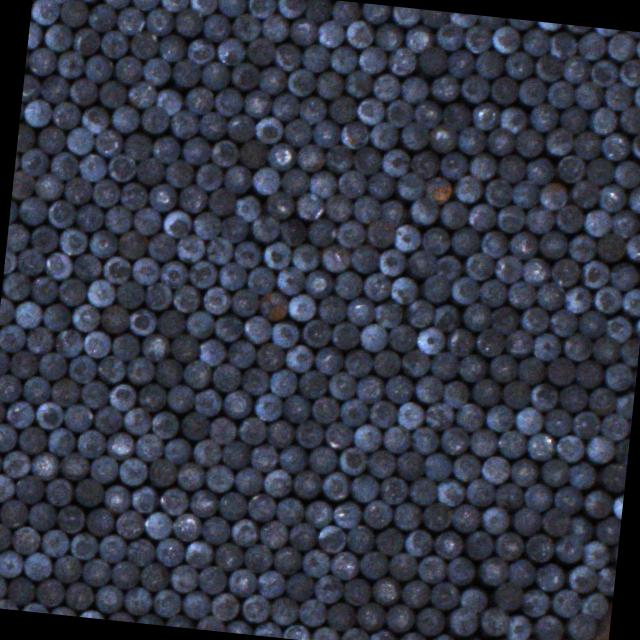tool: (492, 531, 524, 562), (478, 555, 510, 586), (447, 604, 479, 635), (549, 257, 580, 288), (449, 502, 480, 533), (416, 44, 447, 75), (550, 586, 581, 617), (533, 561, 564, 592), (386, 44, 416, 76), (138, 560, 168, 592), (237, 136, 267, 168), (491, 580, 523, 610), (324, 600, 356, 630), (480, 604, 510, 636), (552, 484, 584, 514), (528, 101, 558, 132), (360, 498, 391, 528), (544, 356, 574, 387), (212, 85, 242, 116), (222, 387, 252, 418), (256, 517, 286, 548), (168, 562, 198, 593), (174, 6, 204, 37), (460, 73, 490, 104), (386, 549, 416, 580), (383, 601, 413, 632), (428, 579, 458, 610), (316, 523, 346, 554), (462, 529, 492, 560), (416, 552, 447, 582), (508, 228, 538, 259), (475, 325, 505, 356), (140, 104, 171, 134), (115, 229, 145, 260), (414, 604, 444, 635), (407, 248, 438, 278), (406, 296, 436, 327), (524, 531, 554, 562), (566, 562, 596, 593), (364, 216, 394, 247), (493, 481, 524, 511), (421, 501, 452, 531), (147, 458, 177, 488), (227, 566, 257, 596), (337, 168, 367, 198), (109, 560, 139, 590), (242, 312, 272, 342), (286, 519, 316, 549), (52, 328, 82, 358), (76, 428, 106, 458), (260, 468, 290, 498), (212, 542, 242, 572), (42, 475, 72, 505), (481, 455, 511, 485), (234, 466, 264, 496), (18, 196, 48, 226), (133, 431, 163, 461), (496, 428, 526, 458), (523, 480, 553, 510), (438, 426, 468, 456), (48, 150, 78, 180), (242, 543, 272, 573), (462, 251, 492, 281), (29, 451, 59, 481), (132, 206, 162, 236), (107, 152, 137, 182), (358, 321, 388, 351), (223, 112, 253, 142), (570, 410, 600, 440), (541, 406, 571, 436), (176, 184, 206, 214), (71, 301, 101, 331), (256, 64, 286, 94), (300, 317, 330, 347), (284, 342, 314, 372), (172, 511, 202, 541), (225, 337, 255, 367), (180, 410, 210, 440), (208, 590, 238, 620), (500, 380, 530, 410), (39, 73, 69, 103), (554, 202, 584, 232), (252, 390, 282, 420), (240, 592, 270, 622), (543, 125, 573, 155), (12, 474, 42, 504), (390, 222, 420, 252), (180, 359, 210, 389), (164, 158, 194, 188), (116, 456, 146, 486), (296, 368, 326, 398), (483, 400, 513, 430), (56, 502, 86, 532), (338, 396, 368, 426), (90, 177, 120, 207), (112, 54, 142, 84), (230, 12, 260, 42), (248, 442, 278, 472), (210, 362, 240, 392), (348, 243, 378, 273), (240, 88, 270, 118), (362, 271, 392, 301), (555, 434, 585, 464), (175, 232, 205, 262), (192, 209, 222, 239), (400, 347, 430, 377), (190, 436, 220, 466), (518, 305, 548, 335), (204, 463, 234, 493), (558, 382, 588, 412), (154, 536, 184, 566), (52, 553, 82, 583), (56, 277, 86, 307), (414, 372, 444, 402), (215, 36, 245, 66), (506, 279, 536, 309), (232, 240, 262, 270), (410, 150, 440, 180), (32, 399, 62, 429), (586, 385, 616, 415), (380, 148, 410, 178), (600, 411, 630, 441), (350, 144, 380, 174), (298, 596, 328, 626), (564, 232, 594, 262), (370, 348, 400, 378), (272, 546, 302, 576), (150, 586, 180, 616), (514, 127, 544, 157), (256, 340, 286, 370), (46, 200, 76, 230), (253, 114, 283, 144), (126, 305, 156, 335), (414, 324, 444, 354), (422, 452, 452, 482), (531, 330, 561, 360), (579, 260, 609, 290), (350, 422, 380, 452), (287, 290, 317, 320), (78, 378, 108, 408), (533, 281, 563, 311), (315, 294, 345, 324), (312, 344, 342, 374), (127, 30, 157, 60), (336, 218, 366, 248), (354, 600, 384, 630), (391, 500, 421, 530), (384, 372, 414, 402), (537, 180, 567, 210), (146, 230, 176, 260), (395, 170, 425, 200), (430, 350, 460, 380), (74, 476, 104, 506), (192, 386, 222, 416), (218, 261, 248, 291), (470, 376, 500, 406), (486, 352, 516, 382), (312, 572, 342, 602), (372, 21, 402, 51), (574, 360, 604, 390), (444, 48, 474, 78), (434, 20, 464, 50), (268, 594, 298, 624), (454, 400, 484, 430), (140, 332, 170, 362), (464, 476, 494, 506), (410, 425, 440, 455), (548, 306, 578, 336), (580, 538, 610, 568), (50, 376, 80, 406), (573, 79, 603, 109), (92, 403, 122, 433), (220, 440, 250, 470), (150, 134, 180, 164), (584, 434, 614, 464), (600, 130, 630, 160), (452, 174, 482, 204), (188, 488, 218, 518), (332, 270, 362, 300), (525, 154, 555, 184), (155, 308, 185, 338), (356, 548, 386, 578), (62, 402, 92, 432), (158, 258, 188, 288), (80, 558, 110, 588), (300, 547, 330, 577), (42, 22, 72, 52), (336, 446, 366, 476), (58, 452, 88, 482), (137, 382, 167, 412), (180, 136, 210, 166), (8, 347, 38, 377), (330, 498, 360, 528), (344, 296, 374, 326), (169, 332, 199, 362), (556, 152, 586, 182), (94, 354, 124, 384), (157, 486, 187, 516), (344, 524, 374, 554), (400, 578, 430, 608), (296, 94, 326, 124), (604, 360, 634, 390), (424, 400, 454, 430), (290, 468, 320, 498), (115, 278, 145, 308), (474, 48, 504, 78), (496, 153, 526, 183), (566, 458, 596, 488), (162, 207, 192, 237), (524, 204, 554, 234), (282, 118, 312, 148), (100, 254, 130, 284), (456, 124, 486, 154), (588, 104, 618, 134), (74, 203, 104, 233), (572, 130, 602, 160), (591, 284, 621, 314), (34, 576, 64, 606), (494, 202, 524, 232), (28, 222, 58, 252), (348, 472, 378, 502), (328, 44, 358, 74), (283, 570, 313, 600), (512, 504, 542, 534), (507, 556, 537, 586), (388, 275, 418, 305), (208, 416, 238, 446), (264, 189, 294, 219), (400, 119, 430, 149), (536, 228, 566, 258), (450, 225, 480, 255), (314, 70, 344, 100), (404, 528, 434, 558), (293, 418, 323, 448), (306, 445, 336, 475), (374, 526, 404, 556), (504, 328, 534, 358), (607, 260, 637, 290), (480, 504, 510, 534), (468, 427, 498, 457), (442, 100, 472, 130), (168, 109, 198, 139), (445, 554, 475, 584), (432, 530, 462, 560), (364, 448, 394, 478), (546, 30, 576, 60), (258, 290, 288, 320), (554, 532, 584, 562), (302, 268, 332, 298), (484, 125, 514, 155), (519, 588, 549, 618), (576, 31, 606, 61), (402, 22, 432, 52), (596, 183, 626, 213), (198, 59, 228, 89), (80, 104, 110, 134), (427, 124, 457, 154), (370, 576, 400, 606), (608, 206, 638, 236), (577, 307, 607, 337), (420, 274, 450, 304), (410, 98, 440, 128), (578, 588, 608, 618), (318, 244, 348, 274), (306, 218, 336, 248), (406, 475, 436, 505), (276, 216, 306, 246), (540, 505, 570, 535), (27, 499, 56, 530), (462, 300, 491, 331), (115, 5, 144, 36), (145, 5, 174, 36), (490, 74, 519, 105), (445, 325, 474, 356), (564, 612, 596, 640), (201, 285, 230, 315), (16, 424, 45, 454), (11, 524, 40, 554), (370, 72, 399, 102), (99, 532, 128, 562), (130, 254, 159, 284), (39, 526, 68, 556), (310, 396, 340, 425), (44, 250, 73, 280), (164, 382, 193, 412), (368, 398, 397, 428), (378, 474, 408, 503), (267, 140, 296, 170), (50, 100, 79, 130), (146, 182, 175, 212), (4, 400, 34, 429), (86, 505, 115, 535), (262, 239, 291, 269), (157, 32, 186, 62), (197, 565, 226, 595), (23, 324, 52, 354), (545, 78, 574, 108), (246, 492, 275, 522), (358, 45, 387, 75), (516, 76, 545, 106), (338, 120, 367, 150), (102, 204, 131, 234), (275, 496, 304, 526), (86, 278, 115, 308), (45, 426, 74, 456), (611, 157, 640, 187), (94, 128, 123, 158), (209, 136, 238, 166), (13, 300, 42, 330), (504, 48, 533, 78), (176, 462, 205, 492), (312, 118, 341, 148), (595, 232, 624, 262), (64, 127, 94, 156), (54, 48, 83, 78), (513, 404, 542, 434), (343, 18, 372, 48), (105, 430, 134, 460), (201, 514, 230, 544), (529, 382, 558, 412), (254, 568, 283, 598), (423, 174, 452, 204), (217, 489, 246, 519), (328, 550, 357, 580), (321, 469, 350, 499), (183, 538, 212, 568), (88, 230, 117, 260), (196, 110, 225, 140), (300, 41, 329, 71), (294, 141, 323, 171), (23, 98, 52, 128), (7, 575, 36, 605), (207, 186, 236, 216), (250, 164, 279, 194), (515, 356, 544, 386), (398, 74, 427, 104), (489, 24, 518, 54), (327, 370, 356, 400), (23, 552, 52, 582), (352, 192, 381, 222), (214, 312, 244, 341), (125, 356, 154, 386), (230, 517, 259, 547), (82, 327, 111, 357), (200, 12, 229, 42), (420, 226, 449, 256), (68, 354, 97, 384), (382, 422, 411, 452), (117, 180, 146, 210), (68, 77, 98, 106), (387, 322, 417, 351), (126, 78, 156, 107), (304, 498, 333, 528), (83, 54, 112, 84), (428, 73, 458, 102), (229, 61, 258, 91), (570, 178, 599, 208), (124, 584, 153, 614), (438, 198, 467, 228), (561, 332, 591, 361), (470, 100, 499, 130), (394, 451, 423, 481), (377, 246, 406, 276), (274, 264, 303, 294), (534, 52, 563, 82), (77, 150, 106, 180), (219, 212, 248, 242), (64, 580, 93, 610), (452, 452, 481, 482), (355, 374, 384, 404), (508, 456, 537, 486), (585, 156, 614, 186), (372, 299, 402, 328), (126, 536, 155, 566), (42, 302, 72, 331), (365, 168, 394, 198), (478, 278, 507, 308), (99, 304, 128, 334), (58, 226, 87, 256), (330, 320, 359, 350), (170, 284, 199, 314), (488, 304, 517, 334), (342, 346, 371, 376), (110, 103, 139, 133), (456, 352, 485, 382), (450, 276, 479, 306), (583, 208, 612, 238), (382, 98, 411, 128), (323, 419, 353, 448), (238, 414, 267, 444), (36, 126, 66, 155), (308, 168, 338, 197), (483, 177, 512, 207), (270, 320, 300, 349), (440, 148, 469, 178), (241, 365, 270, 395), (94, 582, 123, 612), (246, 36, 275, 66), (434, 477, 464, 506), (509, 178, 538, 208), (463, 24, 492, 54), (409, 194, 439, 223), (584, 489, 613, 519), (561, 284, 590, 314), (328, 94, 357, 124), (498, 105, 528, 134), (234, 192, 263, 222), (590, 335, 619, 365), (458, 585, 488, 614), (588, 58, 618, 87), (250, 212, 280, 241), (154, 356, 182, 387), (532, 613, 564, 640), (68, 530, 97, 559), (13, 247, 42, 276), (316, 18, 345, 47), (1, 450, 30, 479), (355, 95, 384, 124), (122, 405, 151, 434), (344, 68, 373, 97), (526, 432, 555, 461), (96, 79, 125, 108), (467, 150, 496, 179), (342, 575, 371, 604), (38, 349, 66, 379), (186, 310, 214, 340), (142, 510, 170, 540), (0, 497, 28, 527), (1, 272, 29, 302), (492, 252, 520, 282), (540, 456, 568, 486), (222, 164, 250, 194), (114, 508, 142, 538), (368, 120, 398, 148), (18, 147, 46, 177), (188, 259, 216, 289), (562, 54, 590, 84), (466, 200, 494, 230), (88, 454, 116, 484), (272, 90, 300, 120), (246, 265, 274, 295), (20, 375, 48, 405), (230, 288, 258, 318), (280, 392, 308, 422), (150, 410, 178, 440), (260, 12, 288, 42), (268, 368, 296, 398), (322, 192, 352, 220), (112, 330, 140, 360), (144, 282, 172, 312), (100, 30, 128, 60), (121, 132, 151, 160), (396, 400, 424, 430), (136, 155, 164, 185), (29, 274, 57, 304), (606, 32, 634, 62), (604, 82, 632, 112), (278, 444, 306, 474), (520, 256, 548, 286), (182, 588, 210, 618), (130, 484, 158, 514), (286, 68, 314, 98), (194, 160, 222, 190), (103, 483, 131, 513), (172, 56, 200, 86), (264, 418, 292, 448), (88, 2, 116, 32), (598, 462, 626, 492), (72, 252, 100, 282), (324, 143, 352, 173), (274, 40, 302, 70), (556, 104, 586, 132), (26, 45, 54, 75), (72, 26, 100, 56), (433, 303, 461, 333), (290, 242, 318, 271), (479, 230, 508, 258), (280, 166, 309, 194), (197, 336, 226, 364), (141, 56, 170, 84), (184, 85, 212, 114), (64, 174, 92, 203), (34, 171, 62, 200), (293, 192, 322, 220), (204, 237, 232, 266), (108, 381, 136, 410), (519, 28, 548, 56), (154, 85, 182, 114), (604, 312, 632, 341), (58, 0, 88, 27), (441, 378, 468, 408), (594, 513, 621, 543), (186, 38, 214, 66), (162, 436, 190, 464), (290, 18, 318, 46), (565, 513, 592, 542), (435, 253, 463, 280), (377, 198, 404, 226), (330, 0, 360, 25), (506, 613, 533, 640), (616, 57, 640, 87), (0, 321, 24, 351), (0, 549, 24, 579), (11, 170, 35, 200), (30, 0, 58, 25), (617, 105, 640, 135), (5, 222, 28, 251), (362, 2, 391, 24), (618, 338, 640, 367), (595, 566, 616, 596), (390, 6, 420, 26), (614, 390, 634, 420), (620, 285, 640, 314), (0, 373, 19, 403), (16, 122, 35, 152), (303, 0, 329, 21), (246, 0, 276, 18), (277, 0, 307, 18), (281, 621, 309, 640), (418, 8, 447, 26), (612, 438, 630, 467), (254, 620, 283, 638), (21, 74, 39, 102), (198, 614, 225, 632), (217, 0, 246, 16), (624, 231, 640, 260), (448, 12, 477, 28), (0, 421, 15, 451), (225, 618, 253, 634), (166, 612, 194, 628), (188, 0, 217, 15), (339, 625, 368, 640), (26, 22, 42, 49), (0, 473, 14, 503), (476, 15, 504, 30), (311, 626, 339, 640), (136, 612, 164, 626), (0, 297, 14, 325), (3, 247, 17, 275), (627, 184, 640, 214), (21, 599, 48, 613), (610, 492, 624, 518), (0, 520, 12, 550), (369, 628, 398, 640), (158, 0, 189, 11), (506, 18, 534, 30), (106, 610, 134, 622), (51, 604, 78, 616), (397, 630, 429, 640), (76, 608, 105, 619), (129, 0, 158, 10), (590, 26, 618, 36), (608, 540, 618, 568), (102, 0, 132, 9), (631, 129, 640, 159), (8, 197, 18, 224), (536, 21, 562, 31), (0, 347, 9, 375), (562, 24, 590, 33), (0, 571, 8, 601), (428, 632, 458, 640), (0, 596, 18, 609), (633, 82, 640, 111), (456, 634, 487, 640), (633, 313, 640, 339), (619, 30, 640, 38), (0, 396, 5, 424), (638, 257, 640, 284)
